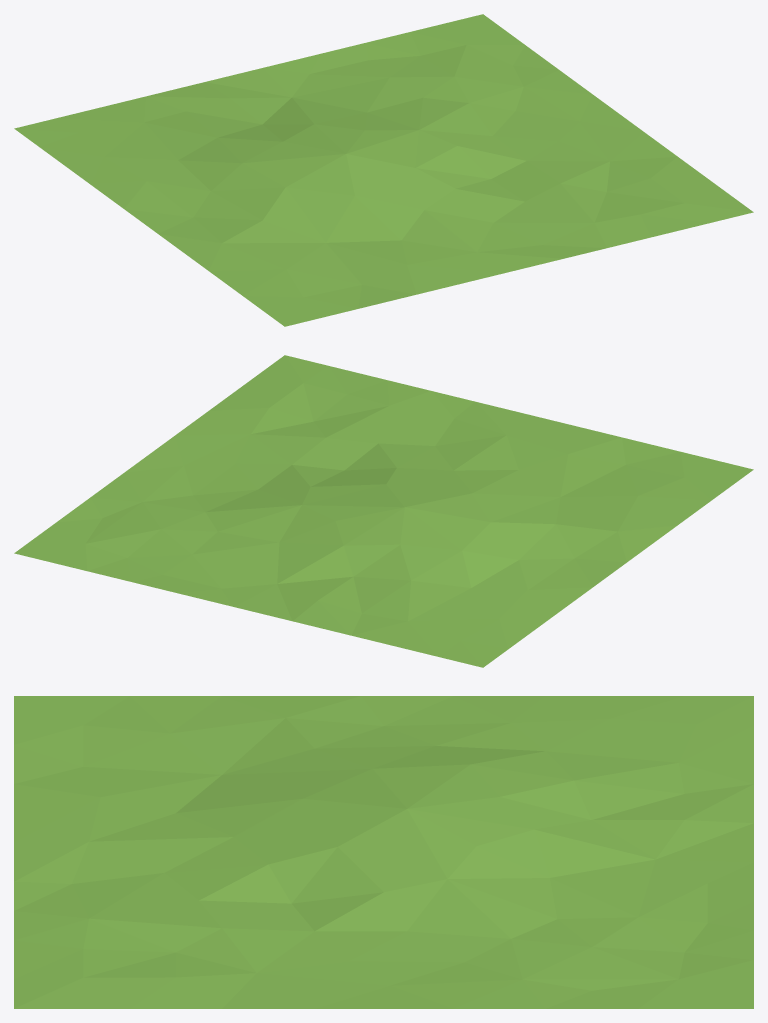
Rendered from MT_Terrain_S_a_03_LOD.fbx.
3 renders of one model, top to bottom at view 1: azimuth 30°, elevation 25°; view 2: azimuth 150°, elevation 25°; view 3: azimuth 270°, elevation 25°, orthographic. The views are drawn at different scales.
Visible parts, largest first — view 1: MT_Terrain_S_a_03_LOD0; view 2: MT_Terrain_S_a_03_LOD0; view 3: MT_Terrain_S_a_03_LOD0.
Boxes of the visible parts, box(x1,y1,x2,y2) form: MT_Terrain_S_a_03_LOD0: box(14, 14, 753, 326); MT_Terrain_S_a_03_LOD0: box(14, 355, 753, 667); MT_Terrain_S_a_03_LOD0: box(14, 696, 753, 1008).
Size of what is drawn, in the model's own units: 2500 by 97.95 by 2500.
